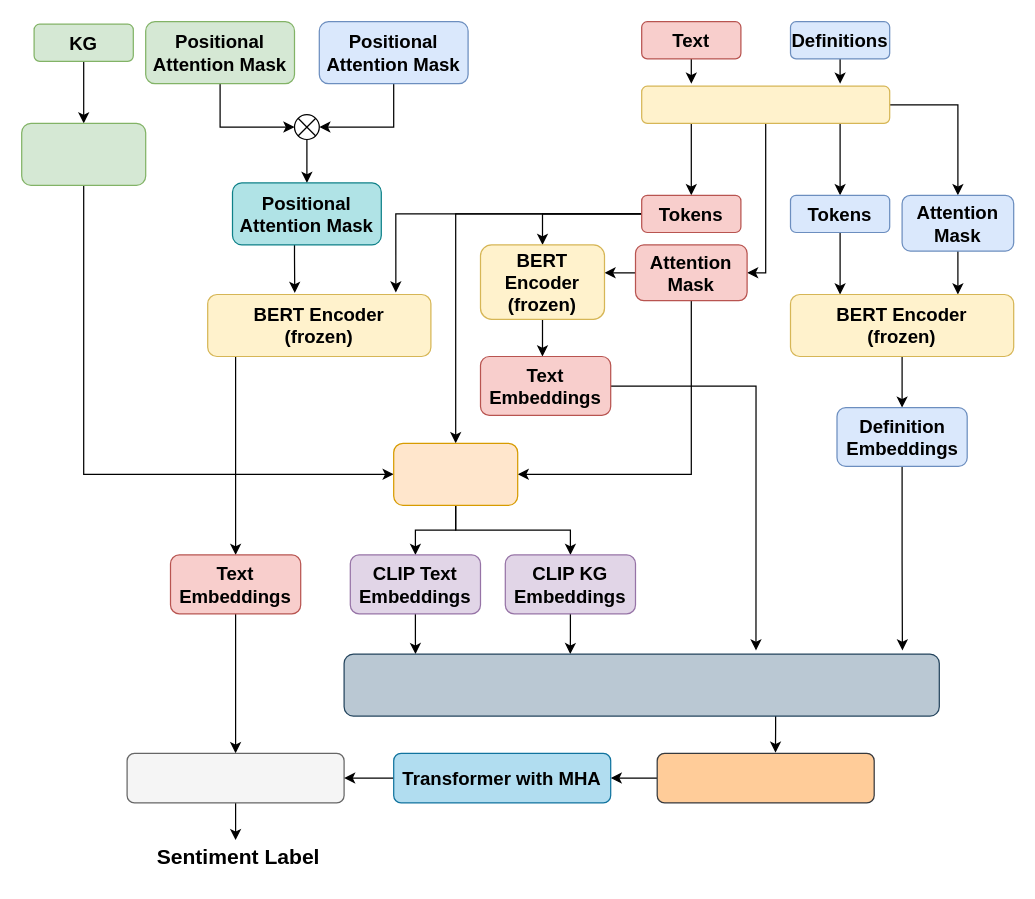
Some shapes in this 1035 by 899 pixel diagram are drawn without their labels. The shapes that lost their labels are listed below. From the top down, each one's centre as x and y in pixels, then its label:
At point (765, 104): "Tokeniser".
At point (83, 153): "KG Embeddings".
At point (455, 473): "Modified CLIP".
At point (641, 684): "Fusion Block".
At point (235, 777): "Classification Head".
At point (765, 777): "Positional Encoder".
